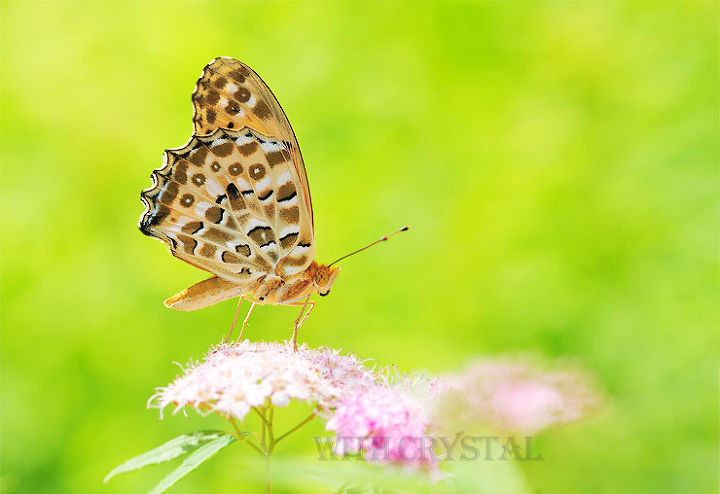Argyreus hyperbius: (140, 56, 422, 349)
butterfly: (138, 54, 420, 347)
